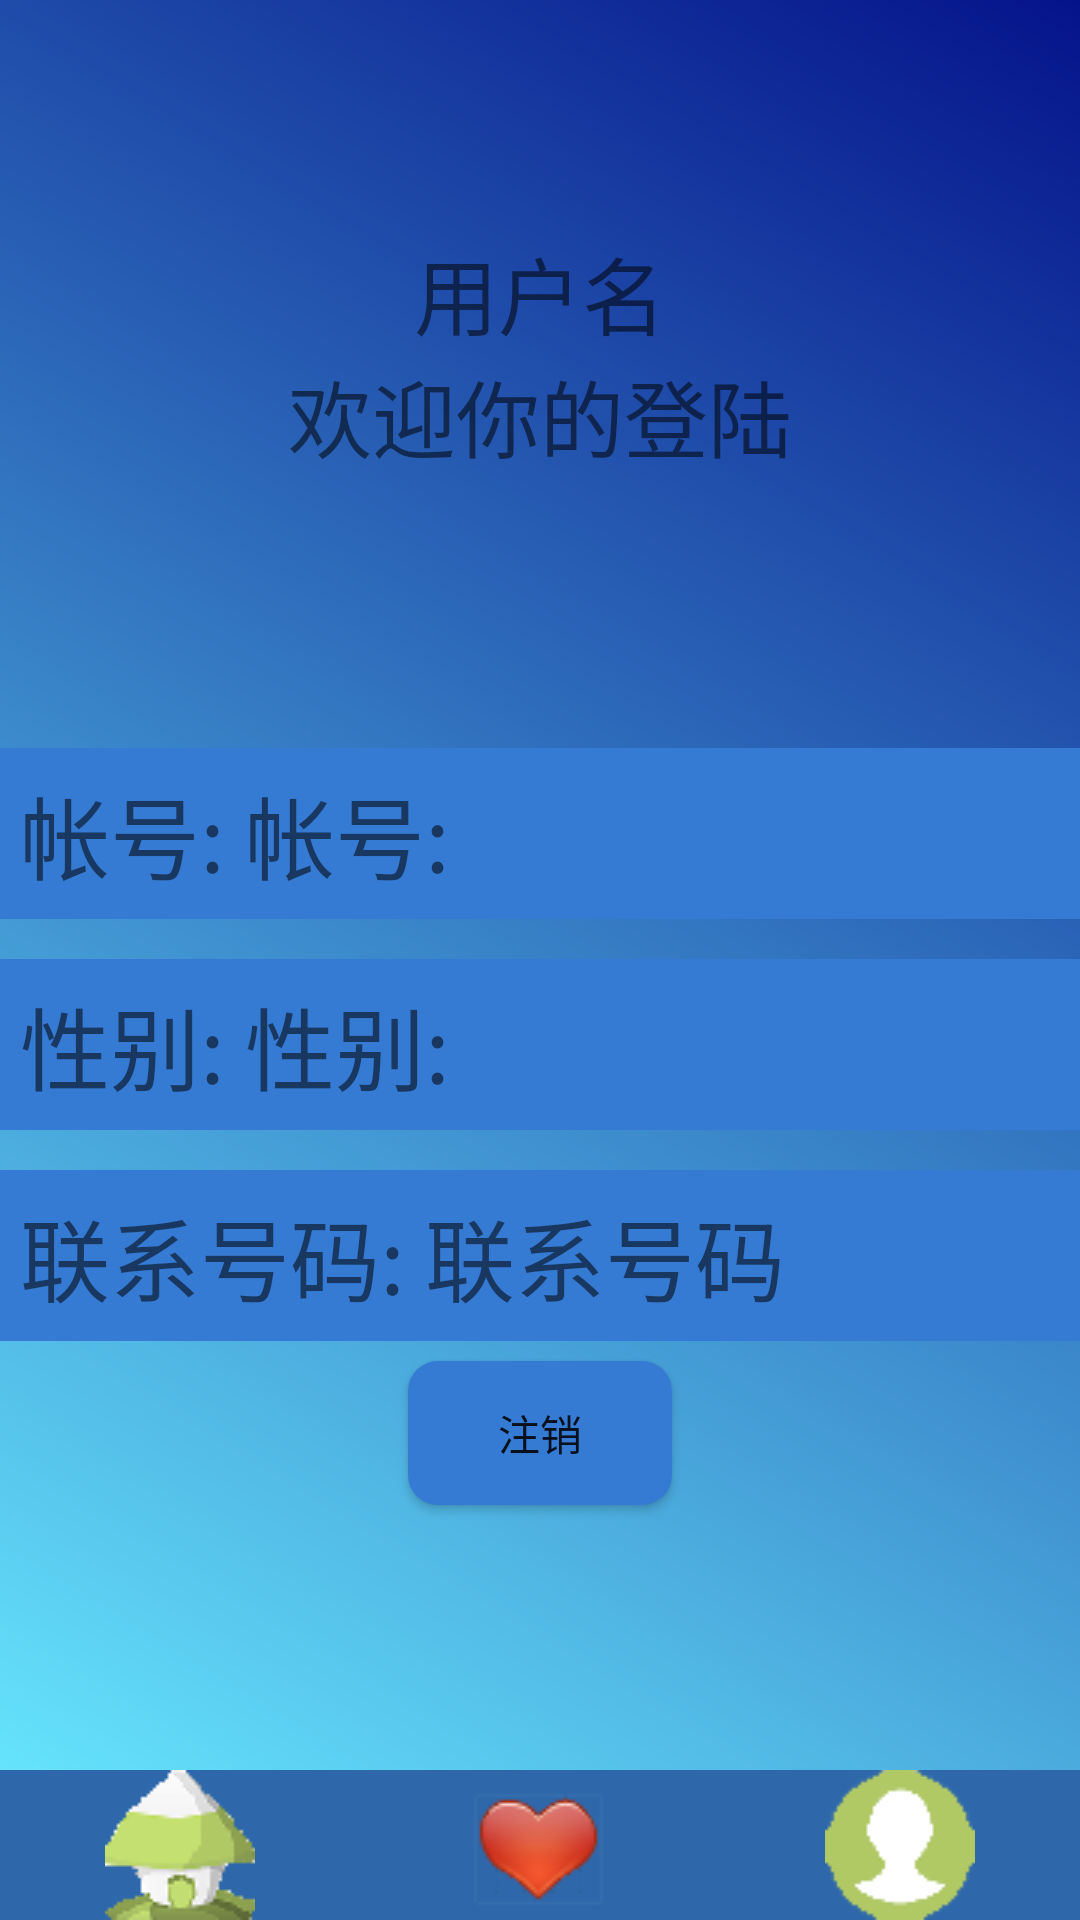

Icon bounding boxes for this 1080*1920 phone screenshot, format (x1, y1, x2, y2):
heart: (479, 1796, 598, 1900)
person: (825, 1770, 975, 1920)
